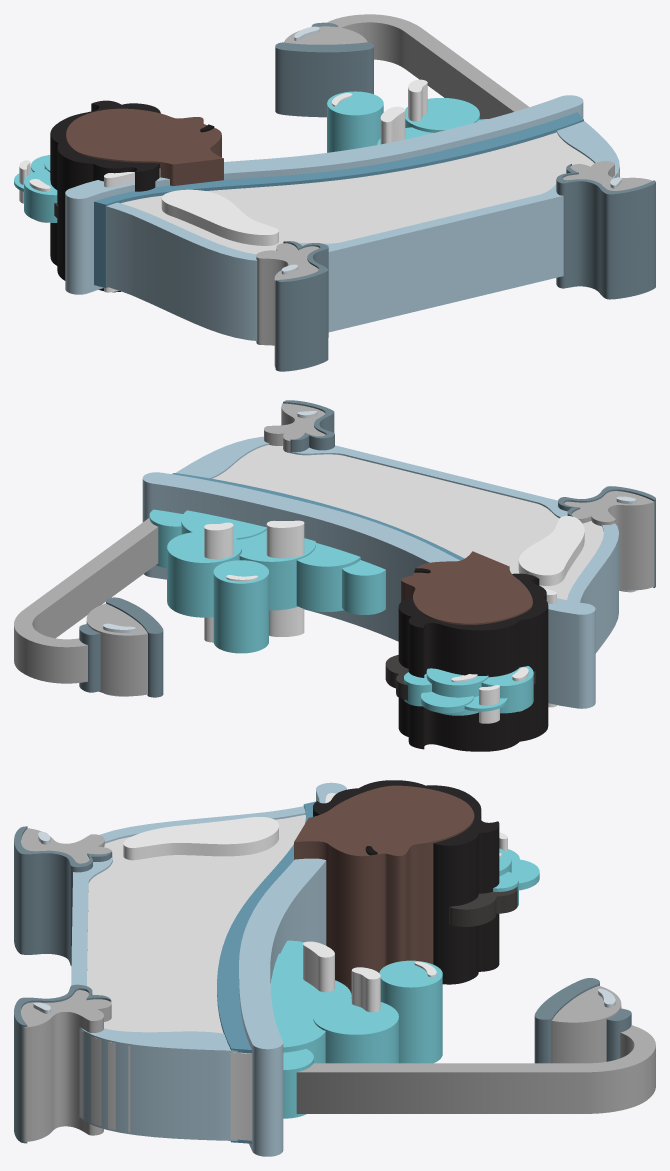
Rendered from emoji_u1f6c0_1f3ff.glb.
The picture shows the model from 3 angles, top to bottom: view 1: azimuth 30°, elevation 25°; view 2: azimuth 150°, elevation 25°; view 3: azimuth 270°, elevation 25°; orthographic projection. The views are drawn at different scales.
Visible parts, largest first — view 1: emoji_u1f6c0_1f3ff; view 2: emoji_u1f6c0_1f3ff; view 3: emoji_u1f6c0_1f3ff.
Boxes of the visible parts, x1=… form: emoji_u1f6c0_1f3ff: x1=14, y1=14, x2=655, y2=371; emoji_u1f6c0_1f3ff: x1=14, y1=400, x2=655, y2=751; emoji_u1f6c0_1f3ff: x1=14, y1=780, x2=655, y2=1156.
Size of the model in its own units: 0.0329 by 0.0084 by 0.0335.
